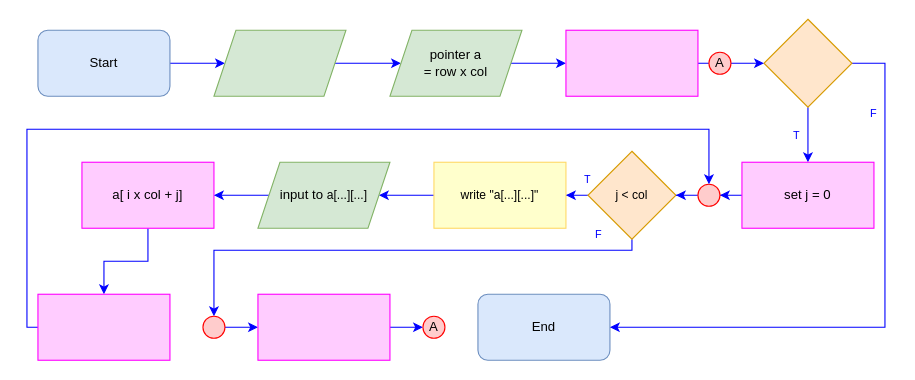
Image size: 915x380. Some labels were removed from this diagram. Here are the shapes that lost their labels. From the top down, the centre of each, then its label:
[279,62]: row, col, i, j, pointer a
[631,62]: set i = 0
[807,62]: i < row
[103,326]: j+1
[323,326]: i+1
